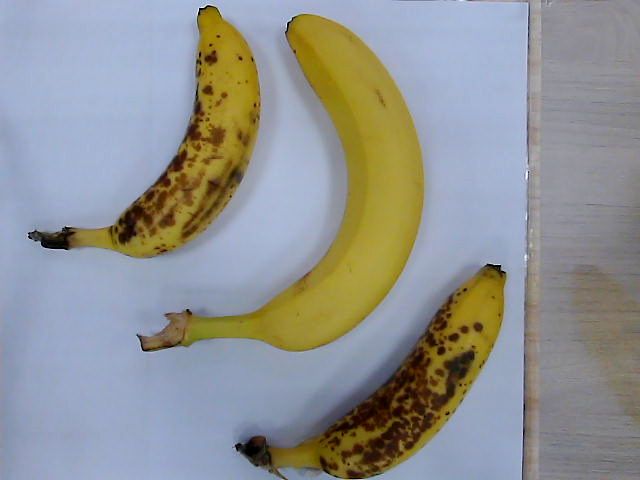fresh_banana: (144, 15, 425, 352)
rotten_banana: (30, 7, 262, 259), (244, 265, 506, 480)
